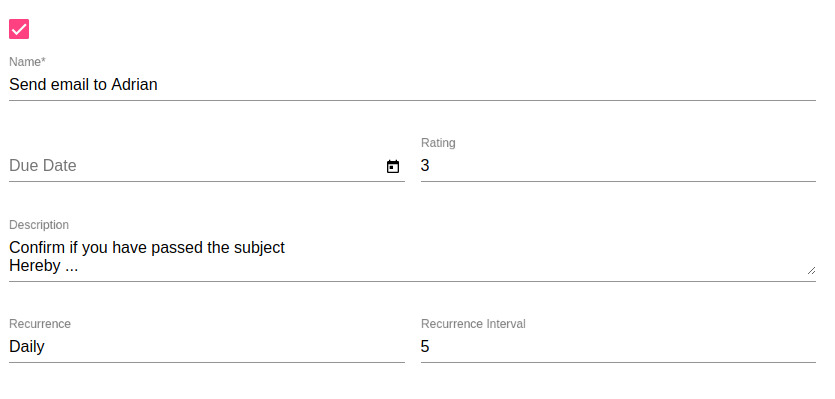_form_: (1, 1, 823, 399)
field_line: (4, 237, 819, 285), (5, 64, 821, 103), (417, 151, 819, 186), (6, 332, 408, 365), (6, 151, 405, 184), (420, 332, 819, 365)
field_line_with_label: (1, 216, 821, 287), (414, 136, 820, 189), (3, 316, 409, 366), (417, 316, 820, 366)
